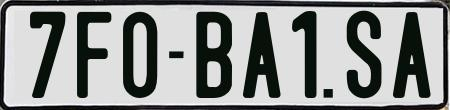0: (123, 12, 159, 104)
1: (291, 9, 320, 102)
7: (29, 9, 66, 99)
A: (391, 11, 435, 102), (242, 12, 281, 99)
B: (196, 12, 235, 102)
F: (75, 9, 109, 97)
S: (345, 8, 384, 101)
